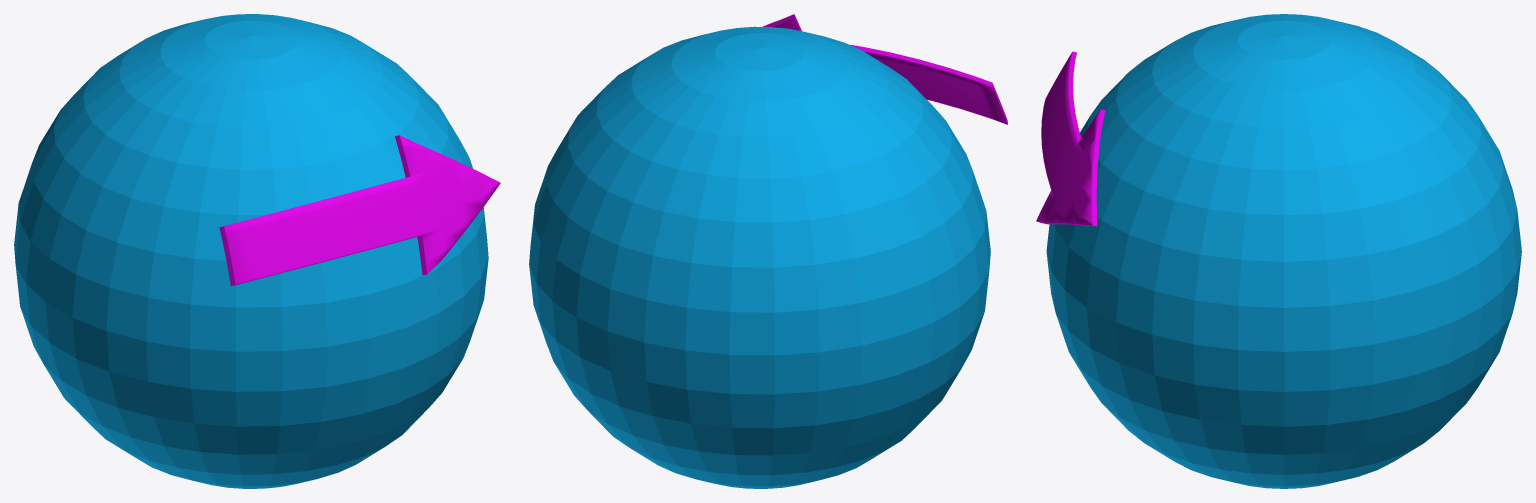
The model's file is spin_2.glb.
3 renders of one model, left to right at view 1: azimuth 30°, elevation 25°; view 2: azimuth 150°, elevation 25°; view 3: azimuth 270°, elevation 25°, orthographic. The views are drawn at different scales.
Parts seen in each view (by area): view 1: Sphere, Plane.001; view 2: Sphere, Plane.001; view 3: Sphere, Plane.001.
Part boxes in pixels (x1=…): Sphere: x1=14, y1=14, x2=488, y2=488; Plane.001: x1=219, y1=135, x2=500, y2=286; Sphere: x1=529, y1=26, x2=990, y2=488; Plane.001: x1=762, y1=14, x2=1007, y2=124; Sphere: x1=1046, y1=14, x2=1521, y2=488; Plane.001: x1=1036, y1=51, x2=1105, y2=226.
Size of the model in its own units: 2 by 2 by 2.04.
